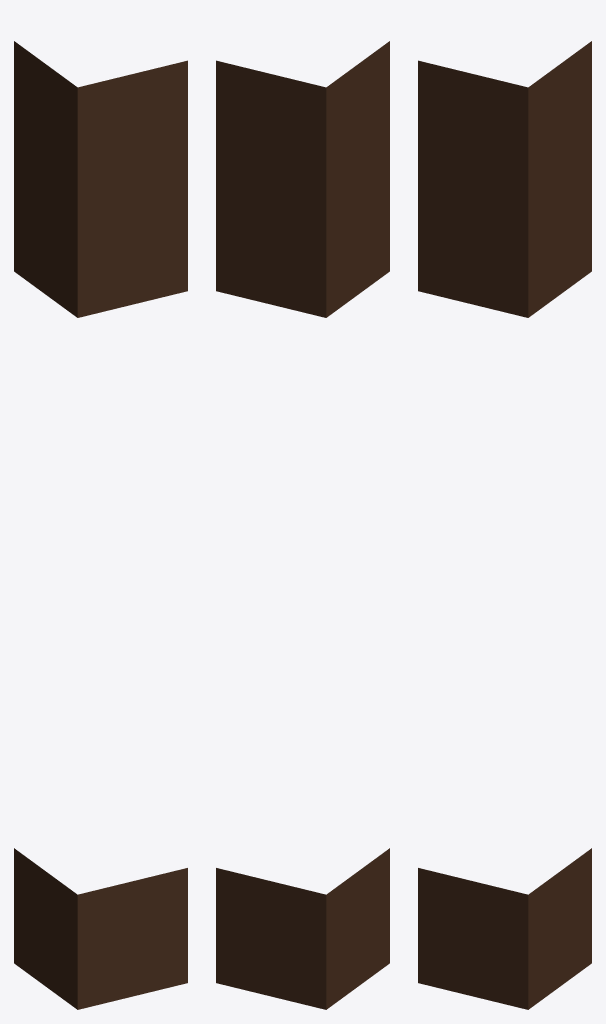
The model's file is tree-cherry-1-pink2-4e3220.gltf.
The picture shows the model from 3 angles, left to right: view 1: azimuth 30°, elevation 25°; view 2: azimuth 150°, elevation 25°; view 3: azimuth 330°, elevation 25°; orthographic projection.
Parts seen in each view (by area): view 1: tree-cherry-1-pink2-4e3220; view 2: tree-cherry-1-pink2-4e3220; view 3: tree-cherry-1-pink2-4e3220.
Part boxes in pixels (x1=…): tree-cherry-1-pink2-4e3220: x1=14, y1=41, x2=187, y2=1009; tree-cherry-1-pink2-4e3220: x1=216, y1=41, x2=389, y2=1009; tree-cherry-1-pink2-4e3220: x1=418, y1=41, x2=591, y2=1009.
Bounding box in the file's own units: 1 × 8 × 1.
